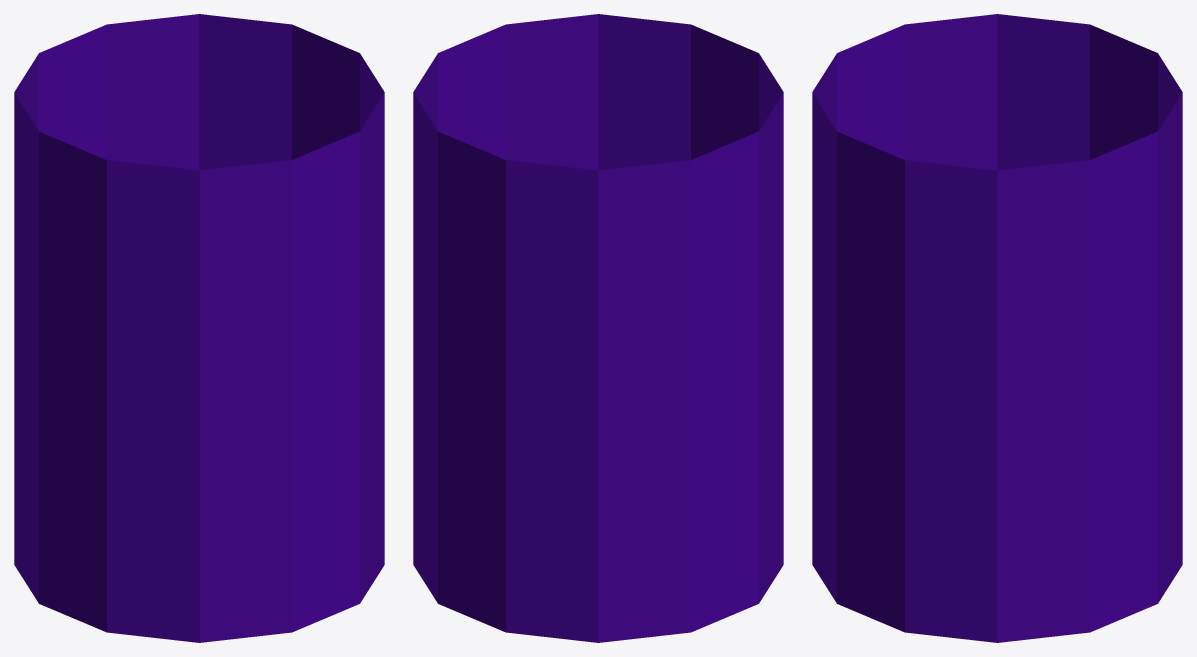
File: Light_01_Ironworks.fbx
The picture shows the model from 3 angles, left to right: view 1: azimuth 30°, elevation 25°; view 2: azimuth 150°, elevation 25°; view 3: azimuth 270°, elevation 25°; orthographic projection.
Parts seen in each view (by area): view 1: Light_01_Ironworks; view 2: Light_01_Ironworks; view 3: Light_01_Ironworks.
Boxes of the visible parts, bbox=[...] form: Light_01_Ironworks: bbox=[14, 14, 384, 642]; Light_01_Ironworks: bbox=[413, 14, 783, 642]; Light_01_Ironworks: bbox=[812, 14, 1182, 642].
Size of the model in its own units: 21.26 by 29.9 by 21.26.
